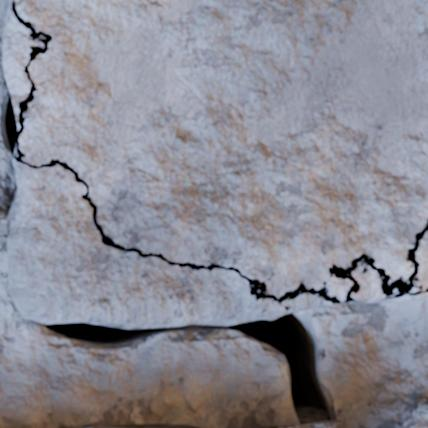brick: (15, 0, 427, 300), (7, 160, 287, 327), (0, 0, 41, 113), (352, 264, 383, 301), (284, 294, 330, 310), (403, 399, 427, 427), (416, 232, 427, 289), (290, 420, 343, 427), (81, 424, 196, 427), (396, 294, 427, 299)
crack: (0, 0, 427, 426)
